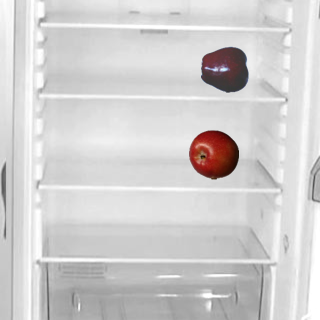Apple Braeburn: (188, 129, 238, 179)
Apple Red Delicious: (200, 44, 250, 94)
